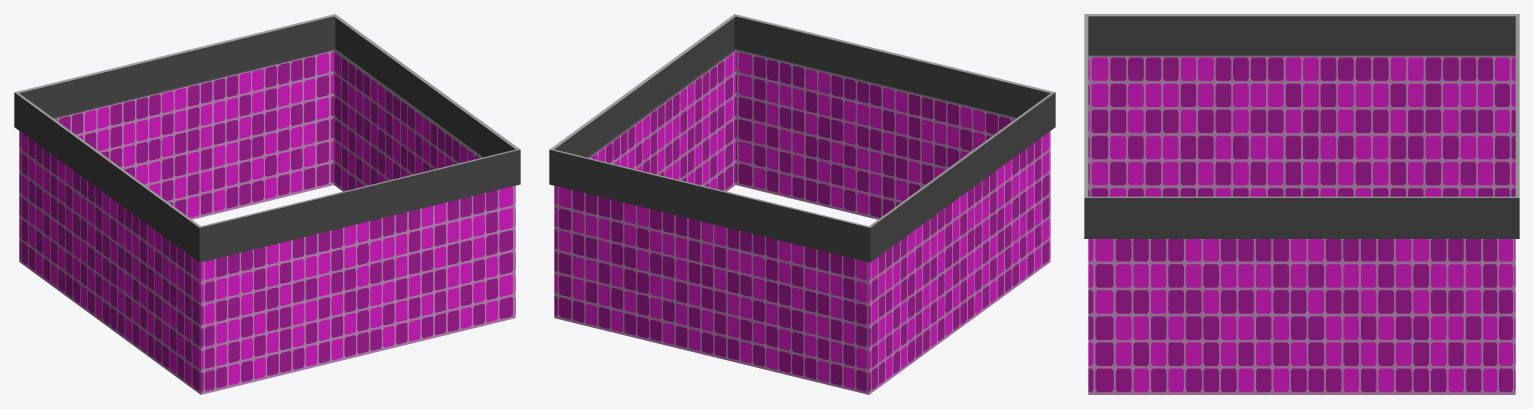
The model's file is Building Middle.fbx.
The picture shows the model from 3 angles, left to right: view 1: azimuth 30°, elevation 25°; view 2: azimuth 150°, elevation 25°; view 3: azimuth 270°, elevation 25°; orthographic projection. The views are drawn at different scales.
Parts seen in each view (by area): view 1: polySurface66; view 2: polySurface66; view 3: polySurface66.
Part boxes in pixels (x1,y1,x2,y2): polySurface66: [14, 14, 520, 394]; polySurface66: [549, 14, 1055, 394]; polySurface66: [1084, 14, 1519, 394].
Size of the model in its own units: 13.12 by 6.6 by 13.12.
3 materials, 1 textured.
